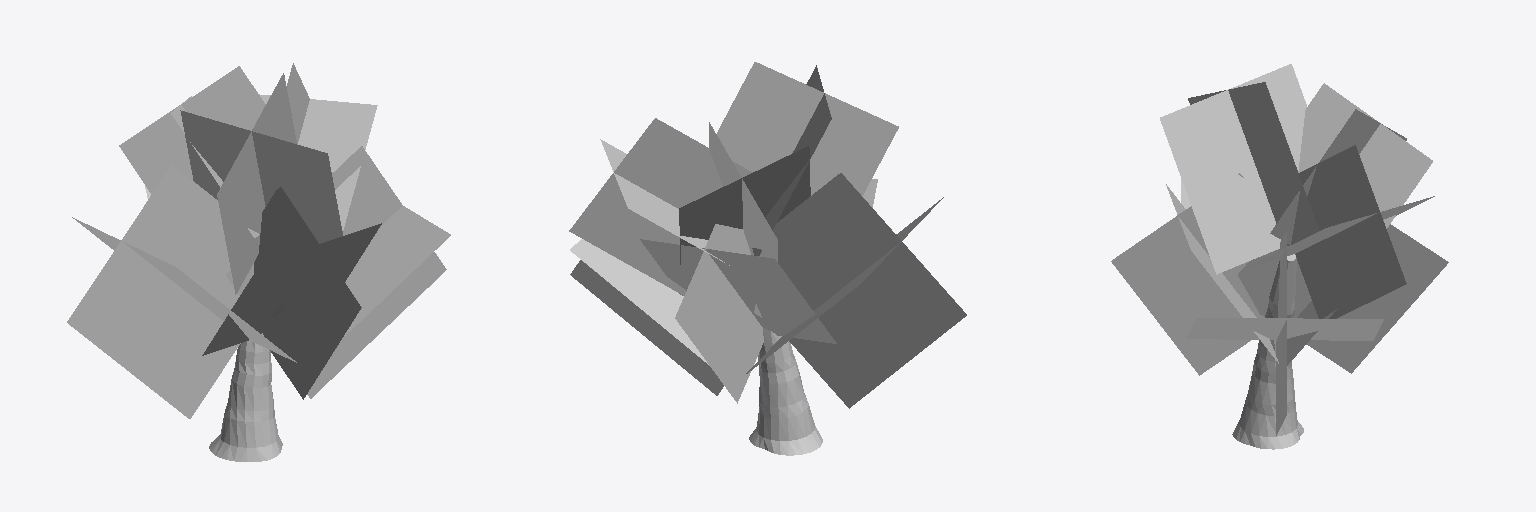
File: CartoonPalmTree_10.obj
3 renders of one model, left to right at view 1: azimuth 30°, elevation 25°; view 2: azimuth 150°, elevation 25°; view 3: azimuth 270°, elevation 25°, orthographic.
Visible parts, largest first — view 1: Cartoon Palm Tree 10; view 2: Cartoon Palm Tree 10; view 3: Cartoon Palm Tree 10.
Boxes of the visible parts, x1=… form: Cartoon Palm Tree 10: x1=67, y1=63, x2=450, y2=461; Cartoon Palm Tree 10: x1=569, y1=62, x2=966, y2=455; Cartoon Palm Tree 10: x1=1111, y1=64, x2=1448, y2=449.
Bounding box in the file's own units: 18.31 × 16.57 × 13.8.